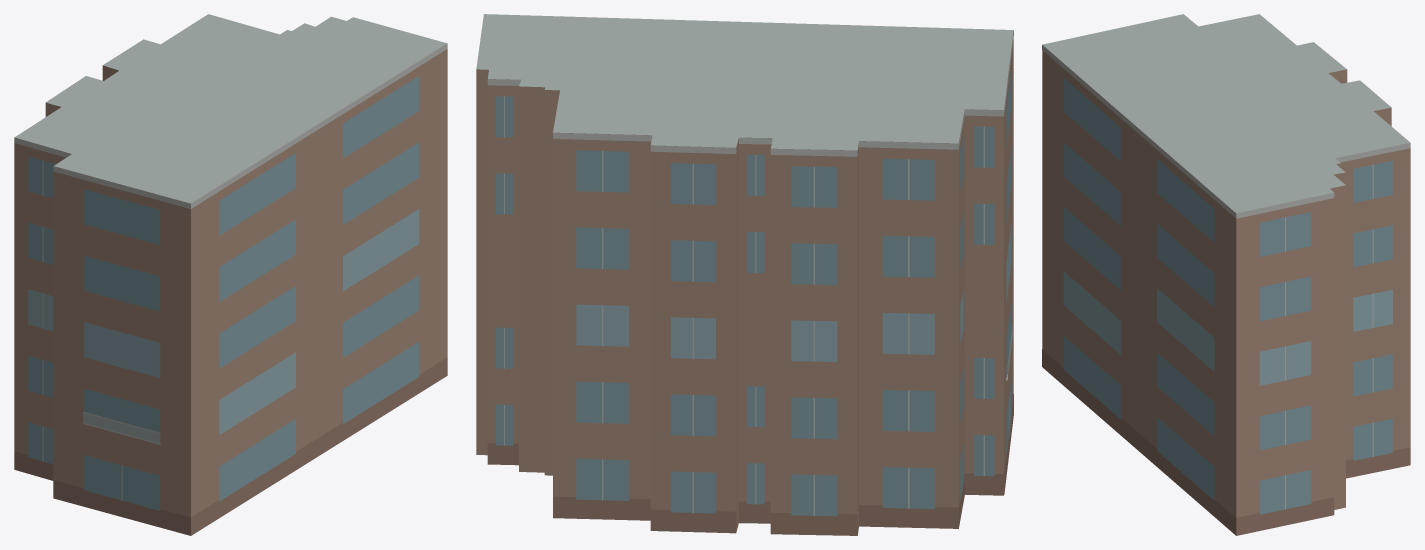
Rendered from survey-upis-32938577.glb.
3 renders of one model, left to right at view 1: azimuth 30°, elevation 25°; view 2: azimuth 150°, elevation 25°; view 3: azimuth 270°, elevation 25°, orthographic. The views are drawn at different scales.
Visible parts, largest first — view 1: survey-upis-32938577.tmp; view 2: survey-upis-32938577.tmp; view 3: survey-upis-32938577.tmp.
Boxes of the visible parts, x1,y1,x2,y2 form: survey-upis-32938577.tmp: [14, 14, 447, 535]; survey-upis-32938577.tmp: [476, 14, 1013, 535]; survey-upis-32938577.tmp: [1042, 14, 1410, 535].
Size of the model in its own units: 19.65 by 14.8 by 15.34.
